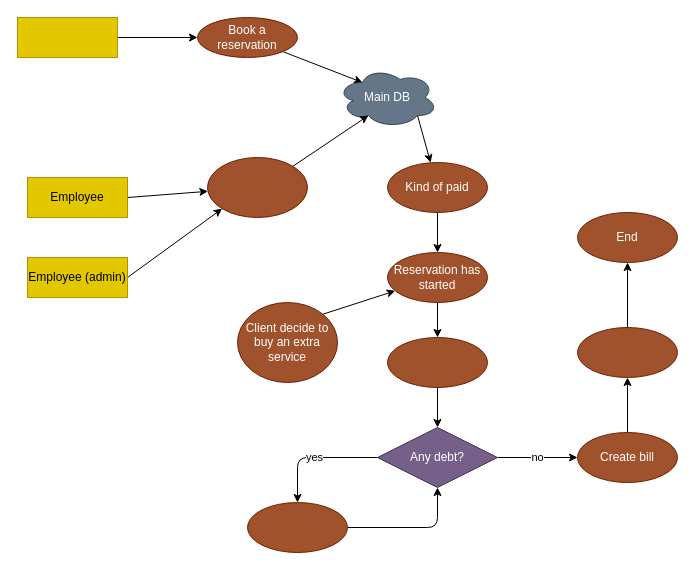
The diagram is 695 pixels wide and 570 high, and some of its shapes have lost their labels. Each missing label, with the centre of its shape:
"Book a reservation for client" belongs at (x=257, y=187).
"Client" belongs at (x=67, y=37).
"Reservation ends" belongs at (x=437, y=362).
"Send survey to client" belongs at (x=627, y=352).
"Tell to client" belongs at (x=297, y=527).
